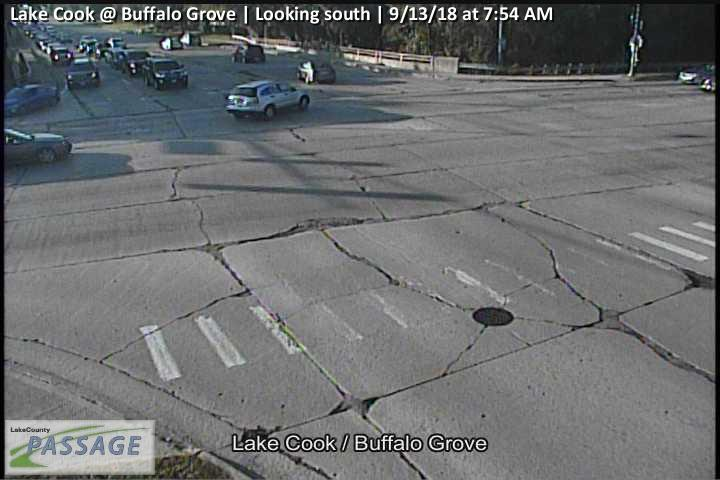SUV: (224, 79, 310, 120), (142, 57, 187, 88), (66, 58, 99, 87), (117, 49, 151, 77), (296, 60, 335, 84), (231, 44, 264, 64), (49, 46, 72, 65)
Sedan: (2, 128, 72, 164), (4, 84, 60, 116)
